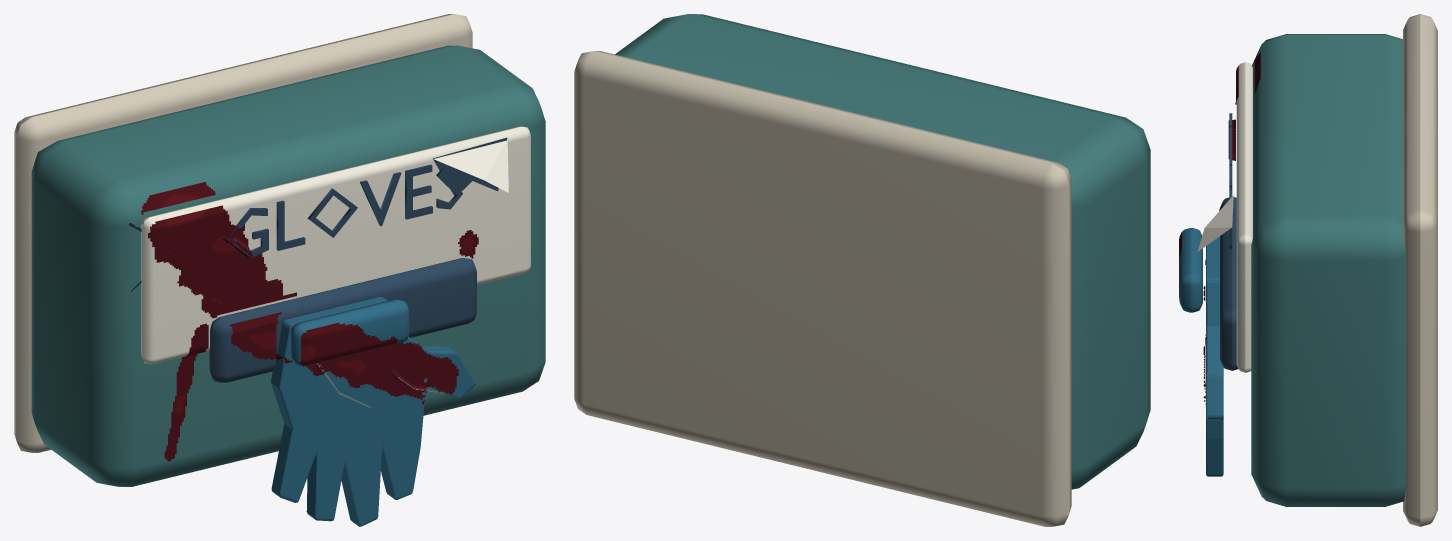
File: glove_dispenser.glb
3 views of the same model, side by side, from view 1: azimuth 30°, elevation 25°; view 2: azimuth 150°, elevation 25°; view 3: azimuth 270°, elevation 25° (orthographic). The views are drawn at different scales.
Visible parts, largest first — view 1: Glove_Dispenser_Outbreak_Static; view 2: Glove_Dispenser_Outbreak_Static; view 3: Glove_Dispenser_Outbreak_Static.
Part boxes in pixels (bbox=[...]): Glove_Dispenser_Outbreak_Static: bbox=[14, 14, 545, 526]; Glove_Dispenser_Outbreak_Static: bbox=[574, 14, 1150, 526]; Glove_Dispenser_Outbreak_Static: bbox=[1179, 14, 1437, 526].
Bounding box in the file's own units: 0.34 × 0.2716 × 0.1775.
